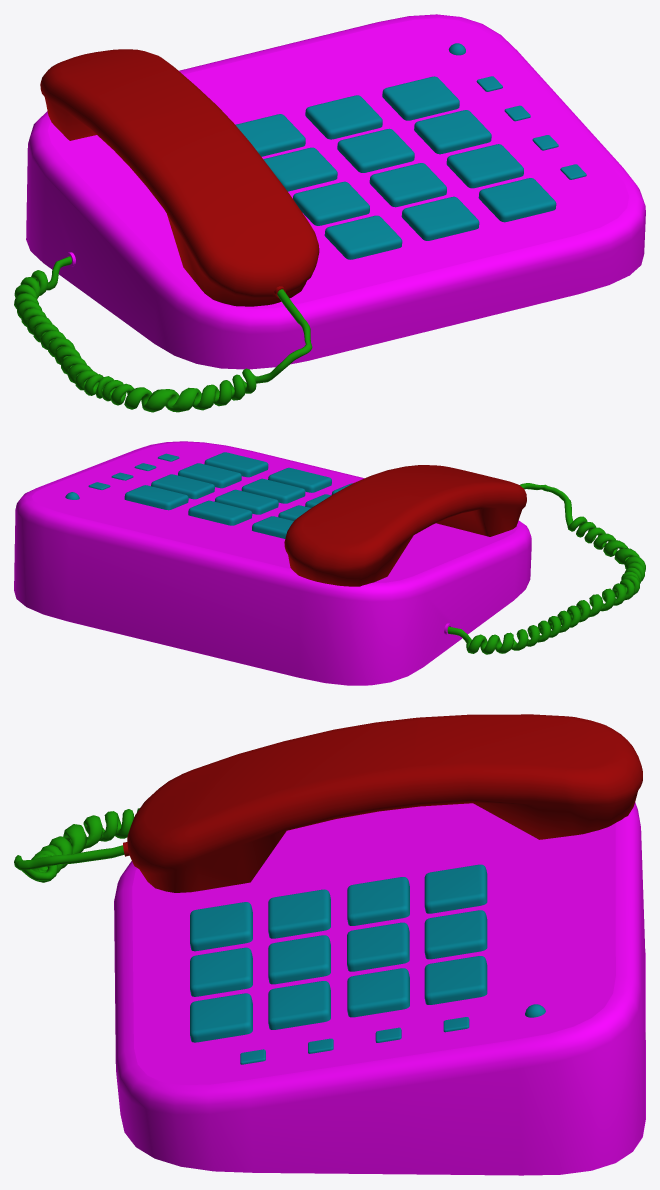
Rendered from Phone.fbx.
3 views of the same model, one above another, from view 1: azimuth 30°, elevation 25°; view 2: azimuth 150°, elevation 25°; view 3: azimuth 270°, elevation 25° (orthographic). The views are drawn at different scales.
Parts seen in each view (by area): view 1: Boitier, Telephone, Boutton (×12), Cable; view 2: Boitier, Telephone, Boutton (×9), Cable; view 3: Boitier, Telephone, Boutton (×12), Cable.
Boxes of the visible parts, x1,y1,x2,y2 form: Boitier: [26, 14, 645, 369]; Telephone: [40, 49, 319, 306]; Boutton (×12): [235, 76, 556, 259]; Cable: [14, 256, 312, 412]; Boitier: [14, 441, 531, 685]; Telephone: [284, 465, 526, 586]; Boutton (×9): [124, 452, 331, 538]; Cable: [447, 483, 645, 654]; Boitier: [114, 802, 645, 1175]; Telephone: [123, 714, 642, 892]; Boutton (×12): [190, 864, 487, 1042]; Cable: [14, 808, 139, 882].
Size of the model in its own units: 49.04 by 13.25 by 37.66.
